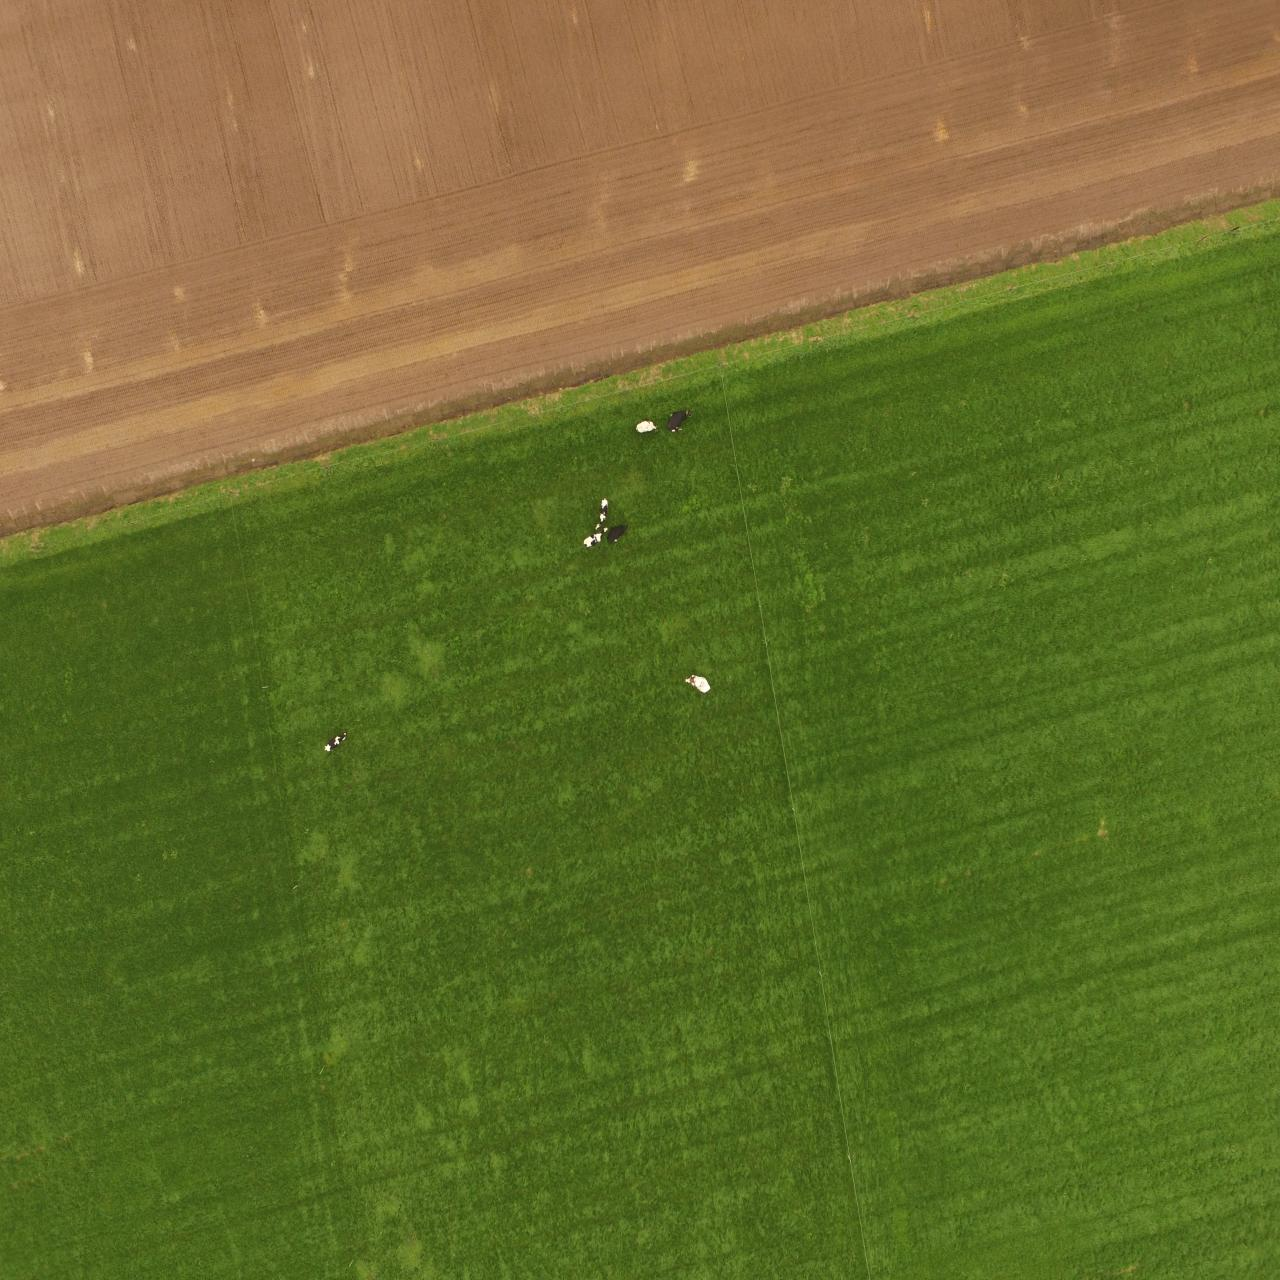cow: (685, 673, 715, 699), (320, 729, 350, 753), (665, 407, 693, 431), (604, 523, 631, 545), (632, 416, 660, 436), (580, 533, 608, 550), (598, 495, 610, 527)
